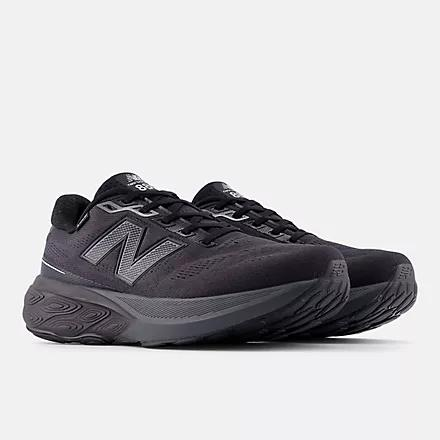NB logo: (77, 208, 199, 291)
